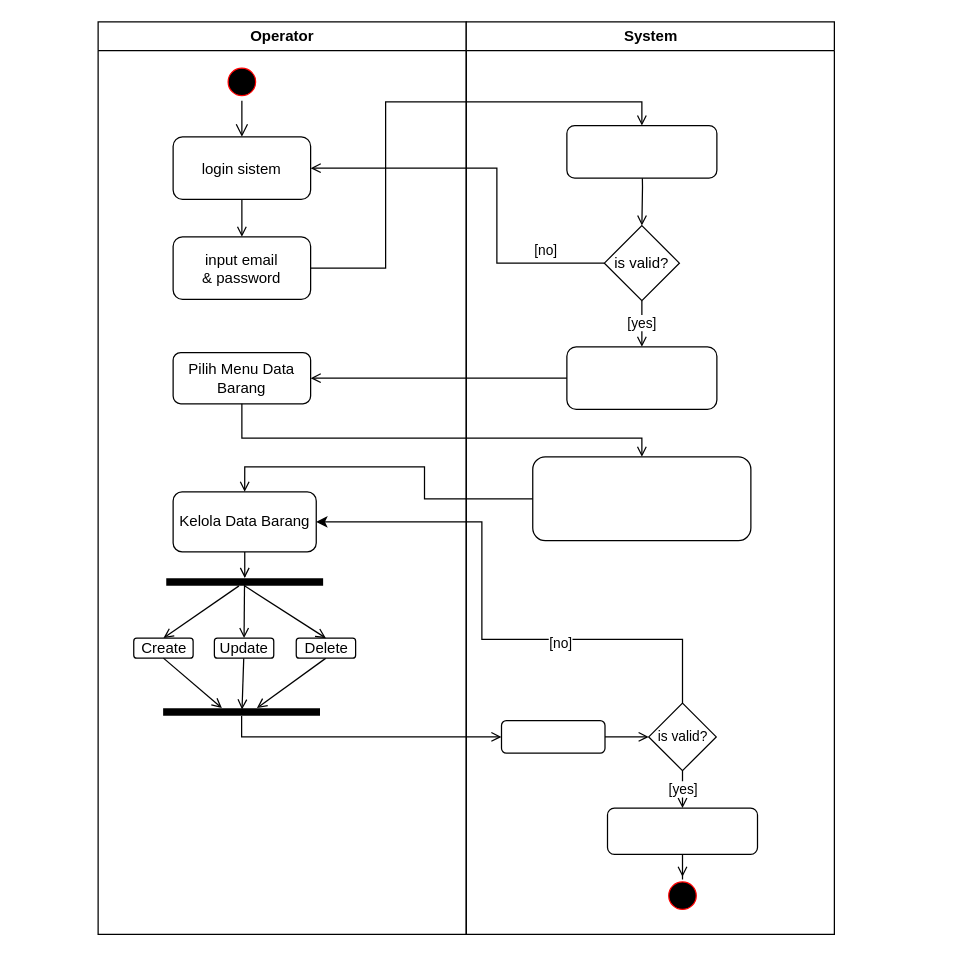
The diagram is 955 pixels wide and 964 high, and some of its shapes have lost their labels. Here are the shapes that lost their labels. From the top down, the centre of each, then its label:
At (641,151): "Validasi Login".
At (641,377): "dashboard operator".
At (641,498): "Tampilkan Halaman Data Barang sesuai role".
At (552,736): "Validasi Data".
At (682,830): "Tampilkan Data Barang".
